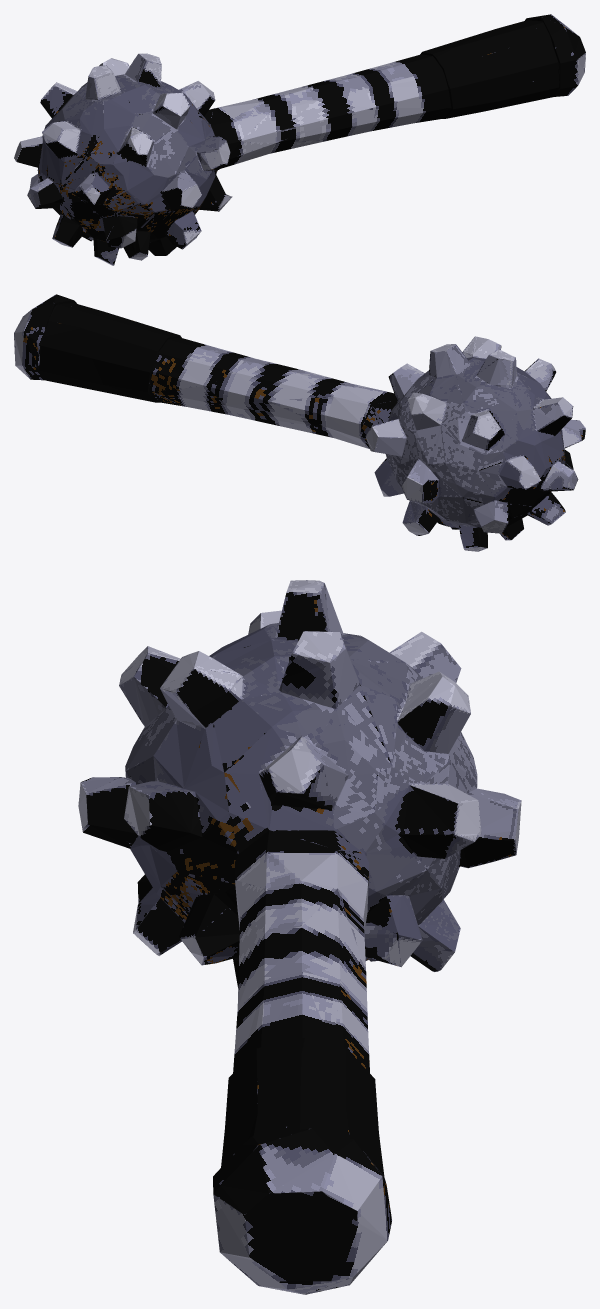
3 views of the same model, one above another, from view 1: azimuth 30°, elevation 25°; view 2: azimuth 150°, elevation 25°; view 3: azimuth 270°, elevation 25° (orthographic). The views are drawn at different scales.
Parts seen in each view (by area): view 1: OBJ009; view 2: OBJ009; view 3: OBJ009.
Boxes of the visible parts, x1,y1,x2,y2 form: OBJ009: [14, 14, 585, 265]; OBJ009: [14, 294, 585, 551]; OBJ009: [78, 580, 521, 1294].
Bounding box in the file's own units: 0.3884 × 0.1315 × 0.1383.
Materials: 1 (1 with a texture image).
